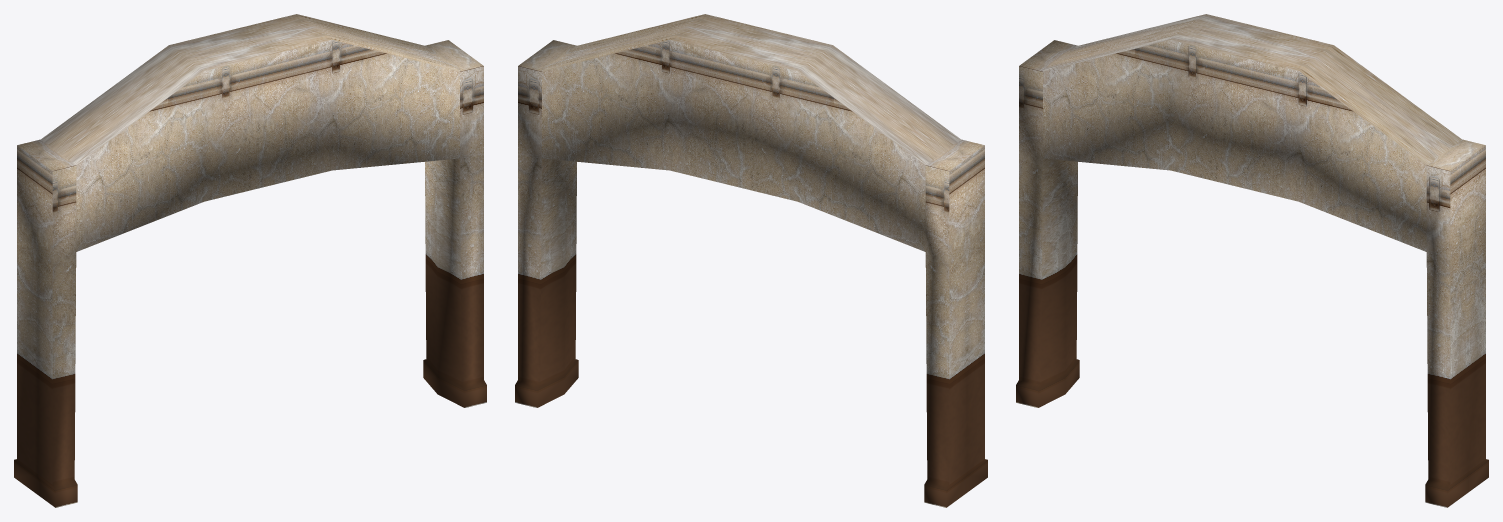
File: Arch_servanthall.fbx
The picture shows the model from 3 angles, left to right: view 1: azimuth 30°, elevation 25°; view 2: azimuth 150°, elevation 25°; view 3: azimuth 330°, elevation 25°; orthographic projection.
Parts seen in each view (by area): view 1: Wall_servants_Short.006; view 2: Wall_servants_Short.006; view 3: Wall_servants_Short.006.
Boxes of the visible parts, <box> form: Wall_servants_Short.006: <box>14,14,486,507</box>; Wall_servants_Short.006: <box>515,14,987,507</box>; Wall_servants_Short.006: <box>1016,14,1488,507</box>.
Bounding box in the file's own units: 500 × 441 × 83.44.
